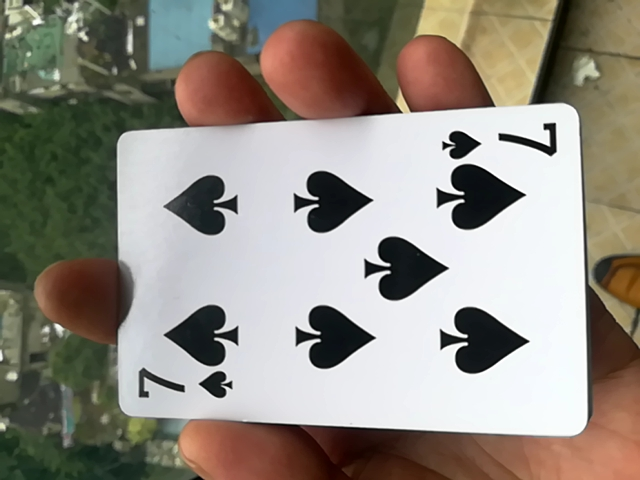ht 7: (97, 107, 580, 446)
